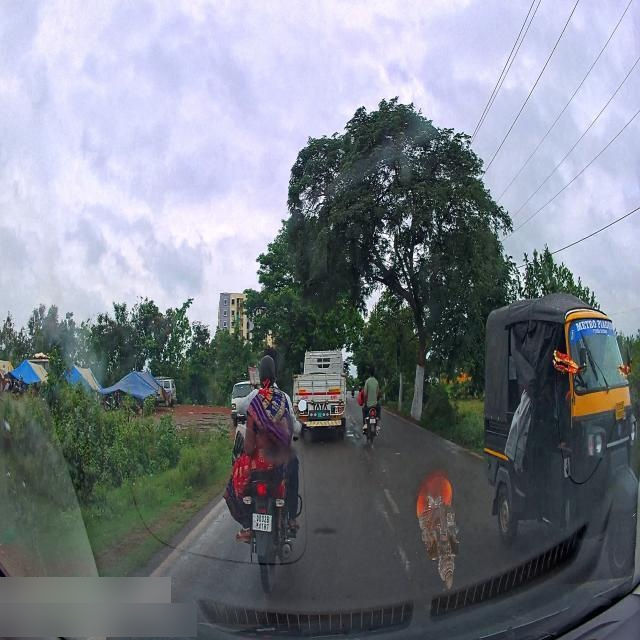pothole: (346, 424, 355, 439)
